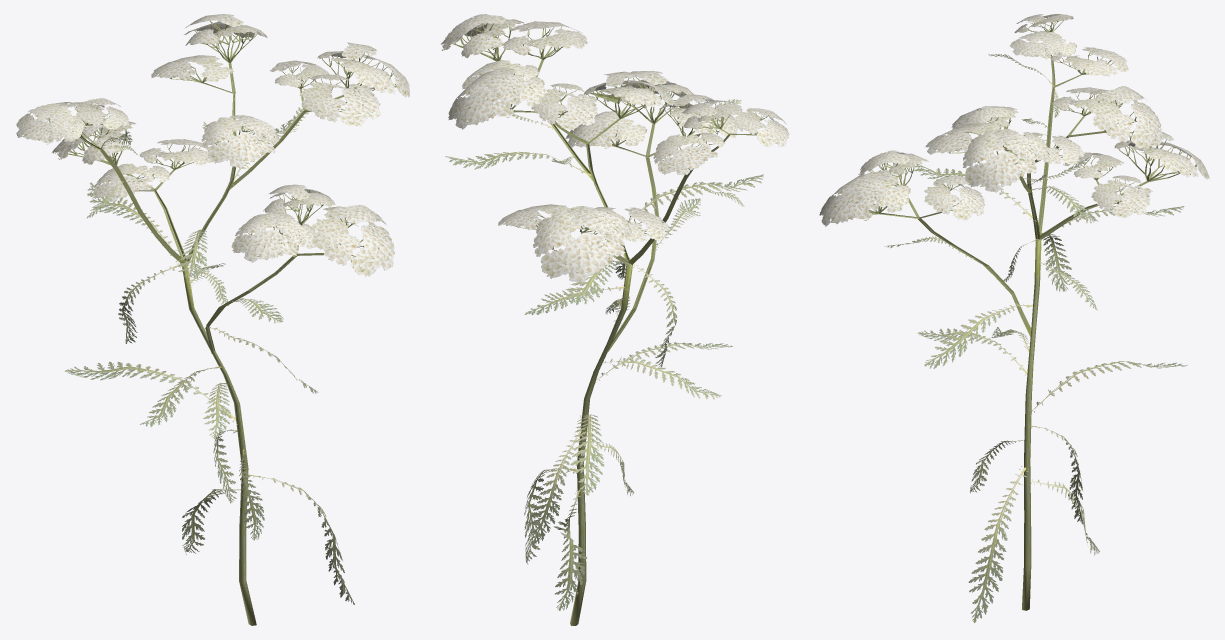
The model's file is flower_white.glb.
3 views of the same model, side by side, from view 1: azimuth 30°, elevation 25°; view 2: azimuth 150°, elevation 25°; view 3: azimuth 270°, elevation 25° (orthographic). The views are drawn at different scales.
Parts seen in each view (by area): view 1: bq_Flower_Achillea-millefolium_D_spring-summer; view 2: bq_Flower_Achillea-millefolium_D_spring-summer; view 3: bq_Flower_Achillea-millefolium_D_spring-summer.
Boxes of the visible parts, <box> form: bq_Flower_Achillea-millefolium_D_spring-summer: <box>16,14,410,625</box>; bq_Flower_Achillea-millefolium_D_spring-summer: <box>441,14,789,625</box>; bq_Flower_Achillea-millefolium_D_spring-summer: <box>819,14,1209,622</box>.
Size of the model in its own units: 0.2183 by 0.327 by 0.2216.
3 materials, 3 textured.
